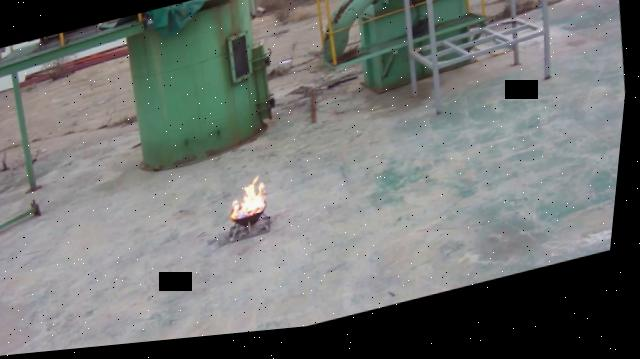fire: (231, 178, 274, 224)
